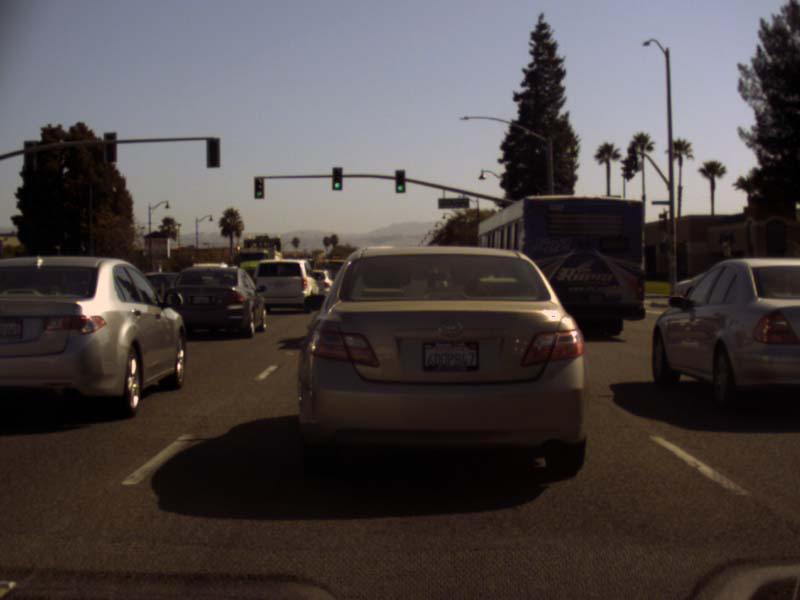Green: (332, 168, 341, 189), (395, 170, 404, 191), (254, 177, 263, 197)
